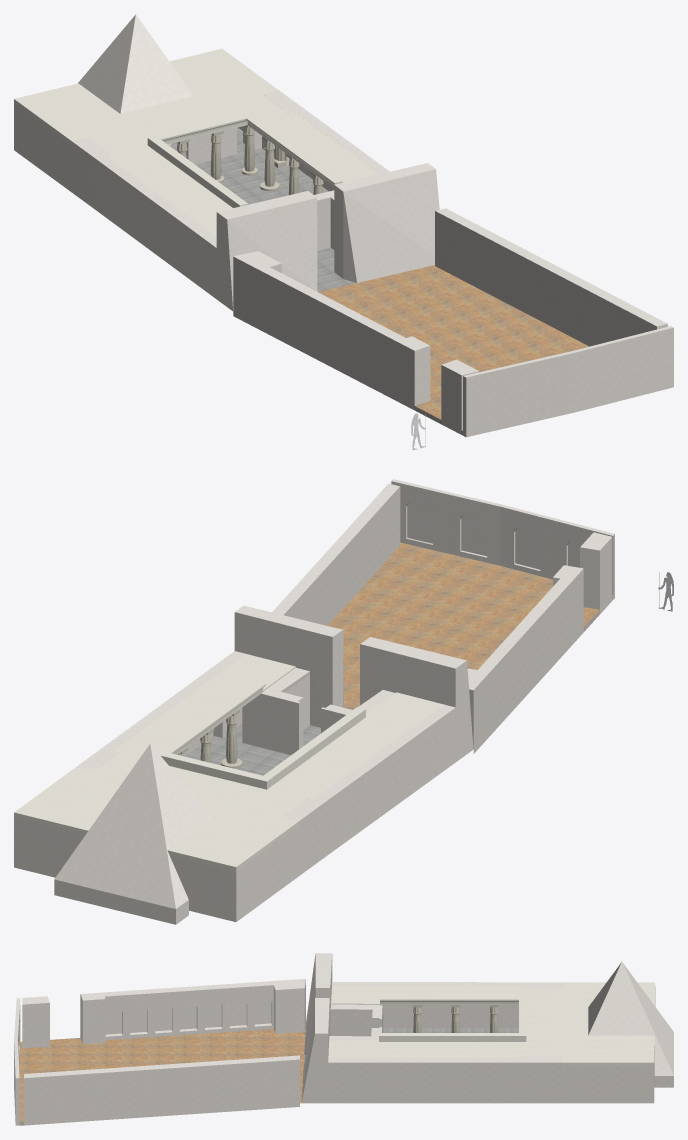
Rendered from Meryneith.obj.
The picture shows the model from 3 angles, top to bottom: view 1: azimuth 30°, elevation 25°; view 2: azimuth 150°, elevation 25°; view 3: azimuth 270°, elevation 25°; orthographic projection. The views are drawn at different scales.
Visible parts, largest first — view 1: Mesh31 Model, Mesh1 Roof_1_1 Model, Mesh2 West_Roof1 Model; view 2: Mesh31 Model, Mesh1 Roof_1_1 Model, Mesh2 West_Roof1 Model; view 3: Mesh31 Model, Mesh1 Roof_1_1 Model, Mesh2 West_Roof1 Model.
Boxes of the visible parts, <box> form: Mesh31 Model: <box>14,14,673,437</box>; Mesh1 Roof_1_1 Model: <box>89,95,378,222</box>; Mesh2 West_Roof1 Model: <box>14,48,279,145</box>; Mesh31 Model: <box>14,479,614,924</box>; Mesh1 Roof_1_1 Model: <box>94,678,409,816</box>; Mesh2 West_Roof1 Model: <box>14,767,298,871</box>; Mesh31 Model: <box>14,953,673,1125</box>; Mesh1 Roof_1_1 Model: <box>378,986,562,1058</box>; Mesh2 West_Roof1 Model: <box>563,982,654,1065</box>.
Size of the model in its own units: 12.19 by 5.83 by 33.52.
9 materials, 8 textured.
